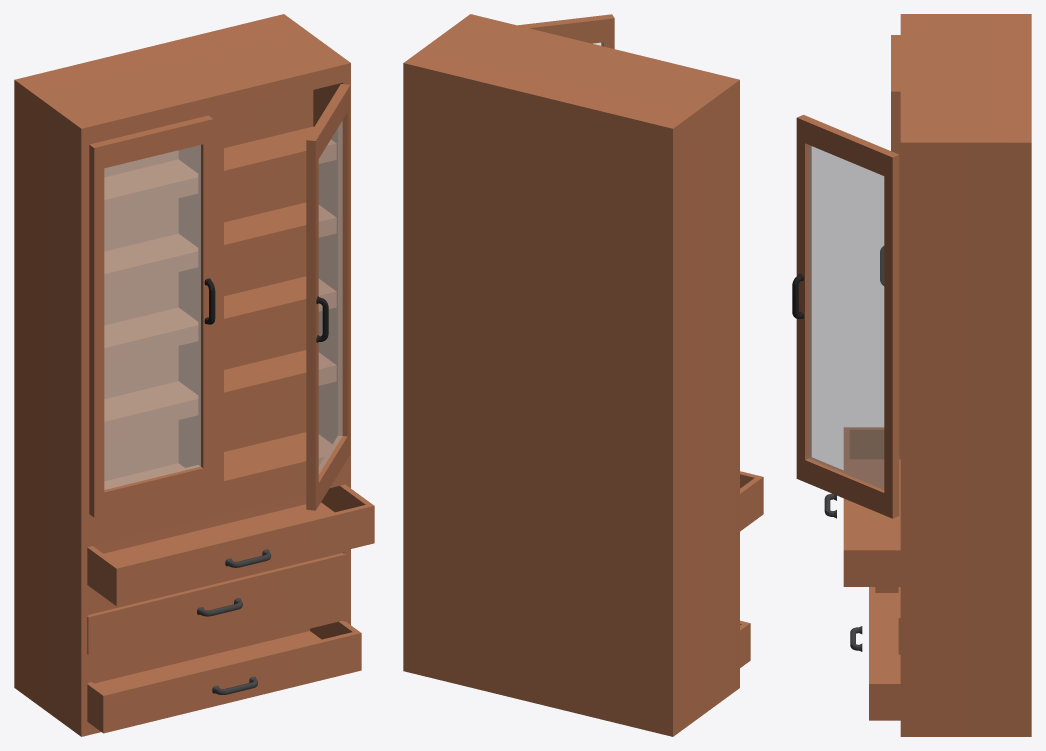
File: laboratory-cabinet-1.glb
3 views of the same model, side by side, from view 1: azimuth 30°, elevation 25°; view 2: azimuth 150°, elevation 25°; view 3: azimuth 270°, elevation 25° (orthographic). The views are drawn at different scales.
Visible parts, largest first — view 1: Object_145, Object_154, Object_147, Object_153, Object_151, Object_156, Object_149, Object_157; view 2: Object_145, Object_156, Object_147; view 3: Object_145, Object_157, Object_156, Object_147, Object_151, Object_153.
Boxes of the visible parts, box(x1,y1,x2,y2) form: Object_145: box(14, 14, 350, 736); Object_154: box(104, 145, 200, 489); Object_147: box(87, 484, 374, 606); Object_153: box(89, 115, 215, 517); Object_151: box(87, 620, 361, 733); Object_156: box(306, 84, 350, 510); Object_149: box(87, 553, 346, 654); Object_157: box(318, 121, 342, 473); Object_145: box(403, 14, 739, 736); Object_156: box(518, 14, 614, 48); Object_147: box(740, 471, 763, 531); Object_145: box(900, 14, 1031, 736); Object_157: box(808, 145, 884, 489); Object_156: box(792, 115, 899, 518); Object_147: box(824, 427, 900, 586); Object_151: box(850, 587, 900, 720); Object_153: box(880, 35, 900, 452).
Size of the model in its own units: 0.8678 by 1.87 by 0.6828.
2 materials, 1 textured.
